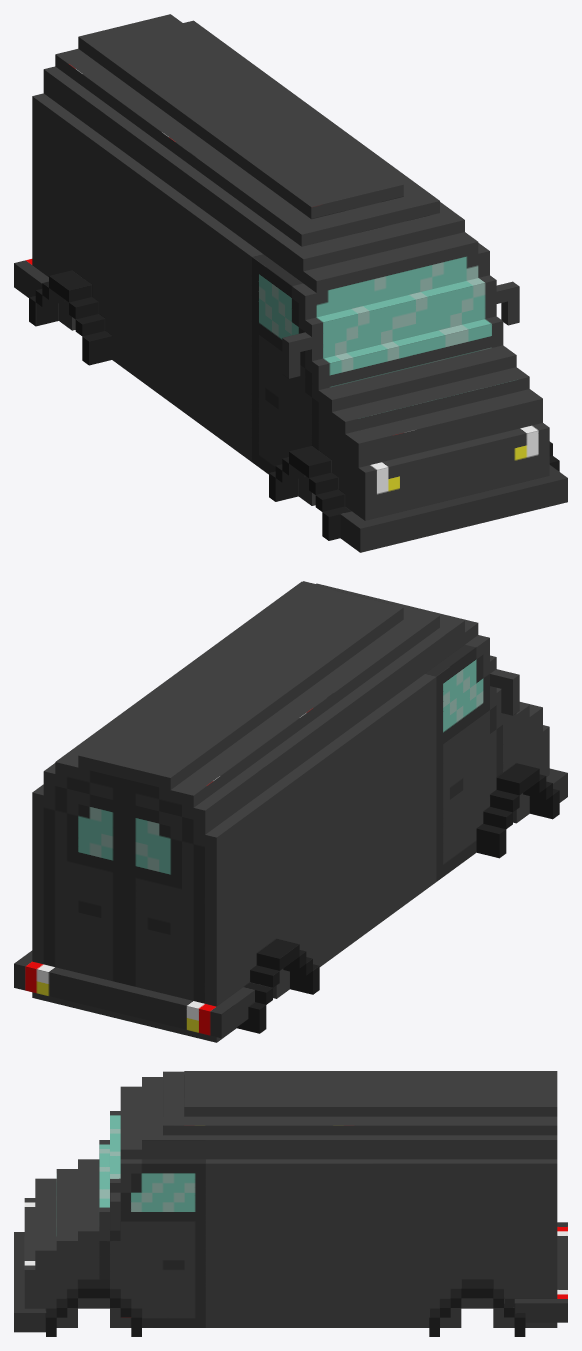
File: Van_2.obj
3 views of the same model, one above another, from view 1: azimuth 30°, elevation 25°; view 2: azimuth 150°, elevation 25°; view 3: azimuth 270°, elevation 25° (orthographic). The views are drawn at different scales.
Visible parts, largest first — view 1: Van_2_Van_2.001; view 2: Van_2_Van_2.001; view 3: Van_2_Van_2.001.
Part boxes in pixels (x1,y1,x2,y2): Van_2_Van_2.001: [14, 14, 567, 552]; Van_2_Van_2.001: [14, 581, 567, 1042]; Van_2_Van_2.001: [14, 1071, 567, 1336].
Size of the model in its own units: 2 by 2.1 by 5.2.
